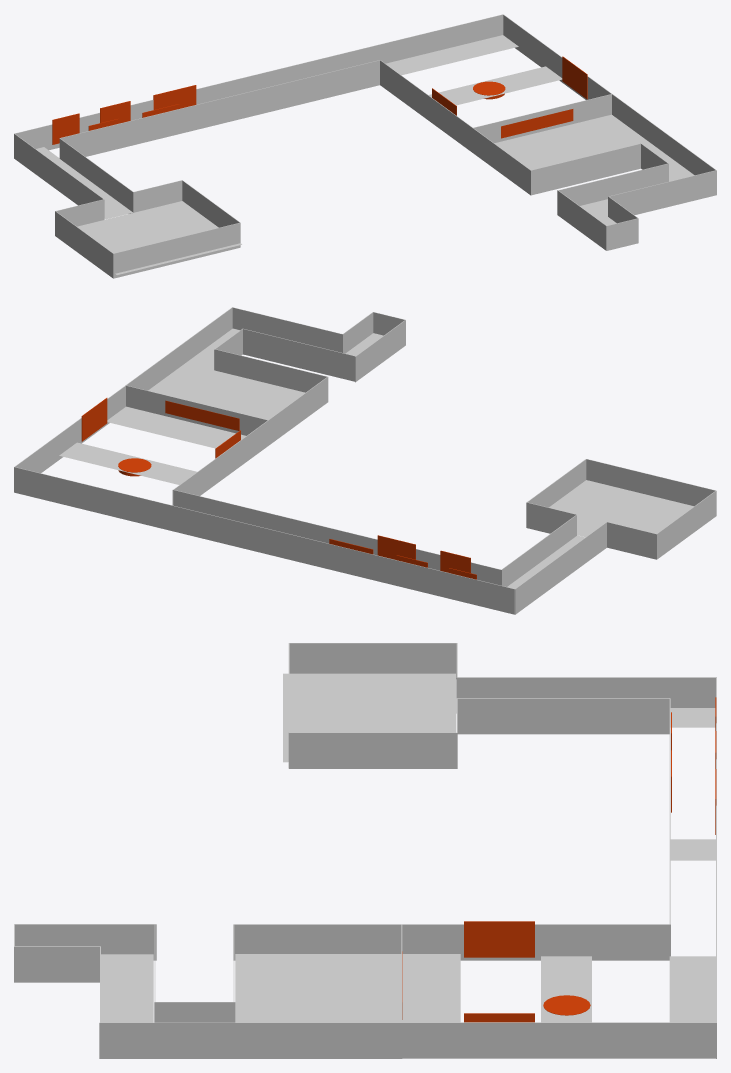
The model's file is Floor2LevelDesign.fbx.
3 renders of one model, top to bottom at view 1: azimuth 30°, elevation 25°; view 2: azimuth 150°, elevation 25°; view 3: azimuth 270°, elevation 25°, orthographic. The views are drawn at different scales.
Parts seen in each view (by area): view 1: Wall__14_, Wall__11_, Floor__5_, Floor, Wall__8_, Wall__16_, Wall__7_, Wall, Wall__5_, Wall__13_, Wall__4_, Floor__3_ (+18 smaller); view 2: Wall__11_, Floor__5_, Floor, Wall__14_, Wall__8_, Wall__4_, Wall__16_, Wall__13_, Wall__7_, Wall, Wall__5_, Wall__9_ (+15 smaller); view 3: Floor__5_, Wall__8_, Wall__10_, Wall__5_, Floor, Wall__12_, Wall__18_, Wall__13_, Wall__19_, Wall__2_, Wall__1_, Floor__3_ (+9 smaller).
Part boxes in pixels (x1=…): Wall__14_: x1=60, y1=60, x2=379, y2=156; Wall__11_: x1=15, y1=14, x2=503, y2=150; Floor__5_: x1=494, y1=114, x2=668, y2=170; Floor: x1=77, y1=201, x2=241, y2=274; Wall__8_: x1=380, y1=60, x2=531, y2=195; Wall__16_: x1=113, y1=222, x2=240, y2=278; Wall__7_: x1=531, y1=143, x2=640, y2=194; Wall: x1=608, y1=170, x2=716, y2=216; Wall__5_: x1=612, y1=94, x2=716, y2=195; Wall__13_: x1=14, y1=133, x2=104, y2=219; Wall__4_: x1=559, y1=163, x2=668, y2=205; Floor__3_: x1=386, y1=35, x2=518, y2=75; Wall__11_: x1=14, y1=467, x2=514, y2=614; Floor__5_: x1=107, y1=363, x2=305, y2=448; Floor: x1=549, y1=480, x2=693, y2=537; Wall__14_: x1=172, y1=490, x2=501, y2=585; Wall__8_: x1=173, y1=376, x2=328, y2=505; Wall__4_: x1=243, y1=329, x2=355, y2=381; Wall__16_: x1=586, y1=459, x2=715, y2=506; Wall__13_: x1=514, y1=522, x2=606, y2=614; Wall__7_: x1=215, y1=349, x2=326, y2=392; Wall: x1=232, y1=307, x2=343, y2=352; Wall__5_: x1=125, y1=307, x2=232, y2=390; Wall__9_: x1=126, y1=385, x2=267, y2=435; Floor__5_: x1=235, y1=954, x2=460, y2=1022; Wall__8_: x1=233, y1=924, x2=670, y2=960; Wall__10_: x1=402, y1=1022, x2=716, y2=1058; Wall__5_: x1=99, y1=1022, x2=401, y2=1058; Floor: x1=283, y1=673, x2=455, y2=762; Wall__12_: x1=457, y1=698, x2=669, y2=734; Wall__18_: x1=289, y1=732, x2=457, y2=768; Wall__13_: x1=456, y1=677, x2=716, y2=713; Wall__19_: x1=289, y1=643, x2=457, y2=678; Wall__2_: x1=14, y1=924, x2=156, y2=960; Wall__1_: x1=14, y1=946, x2=100, y2=982; Floor__3_: x1=669, y1=956, x2=715, y2=1022.
Size of the model in its own units: 17134 by 899 by 13401.
